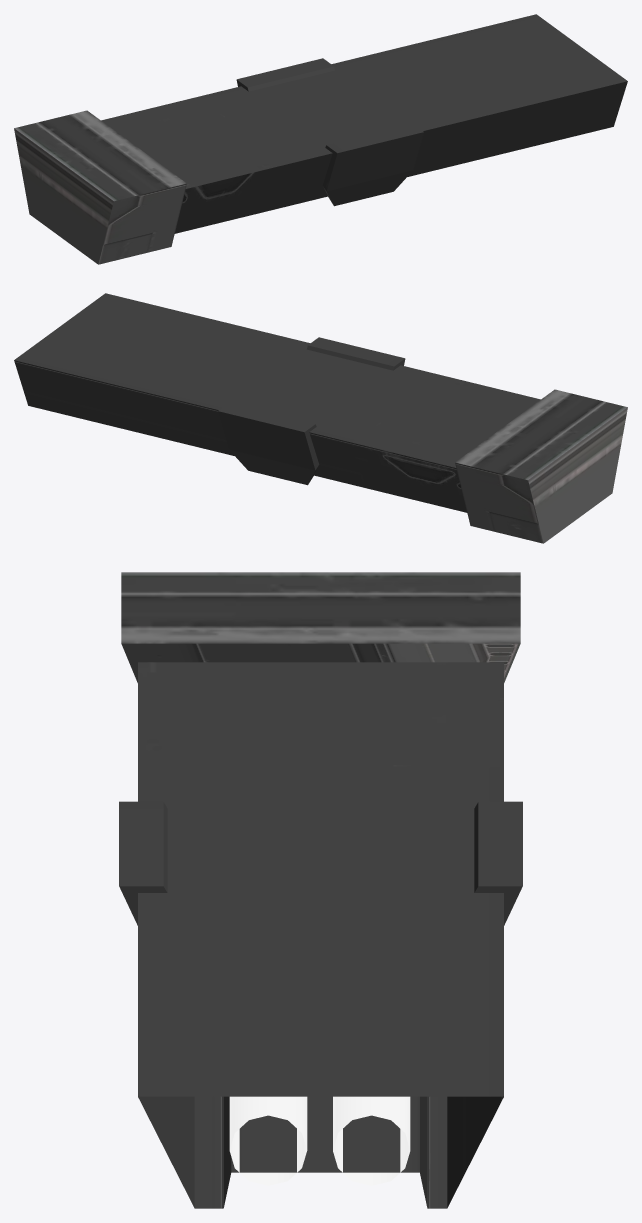
Rendered from Prop_Light_Wide.glb.
3 views of the same model, one above another, from view 1: azimuth 30°, elevation 25°; view 2: azimuth 150°, elevation 25°; view 3: azimuth 270°, elevation 25° (orthographic). The views are drawn at different scales.
Parts seen in each view (by area): view 1: Prop_Light_Wide; view 2: Prop_Light_Wide; view 3: Prop_Light_Wide.
Boxes of the visible parts, box(x1,y1,x2,y2) form: Prop_Light_Wide: box(14, 14, 627, 264); Prop_Light_Wide: box(14, 293, 627, 543); Prop_Light_Wide: box(119, 572, 522, 1208).
Size of the model in its own units: 1.32 by 0.182 by 0.4453.
Materials: 2 (1 with a texture image).
